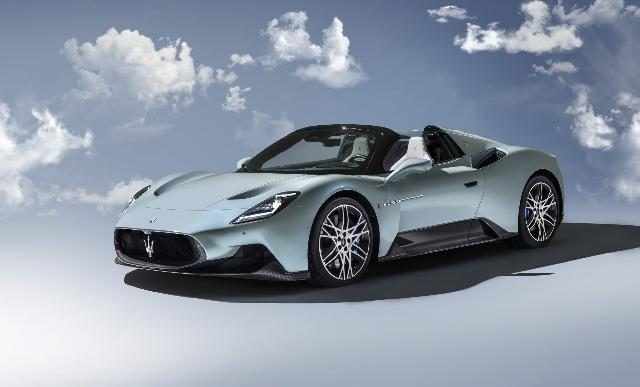maserati: (114, 124, 566, 286)
